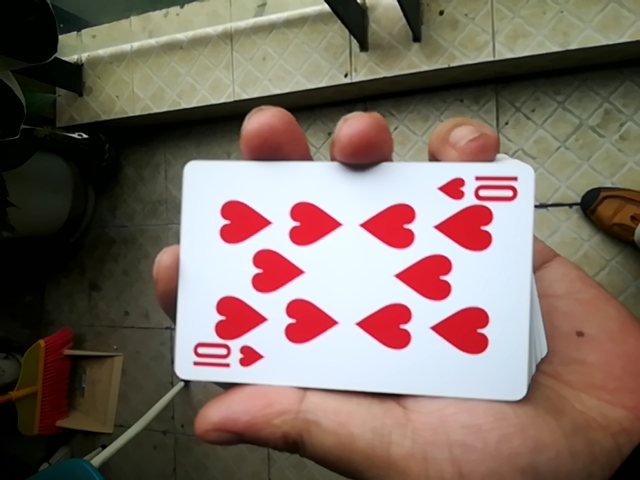hx 10: (170, 158, 534, 411)
